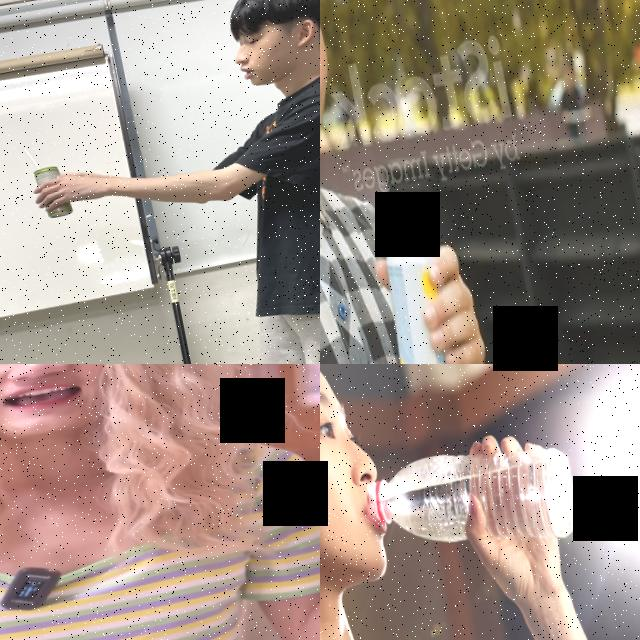bottle: (365, 431, 588, 578)
can: (372, 221, 468, 364), (32, 161, 74, 221)
